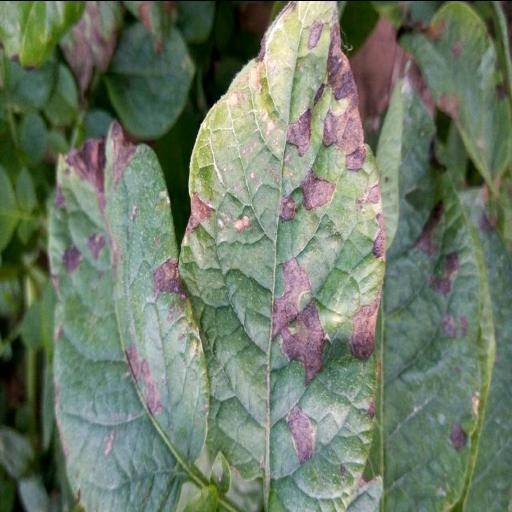Early Blight: (178, 0, 388, 512), (44, 118, 210, 512)
